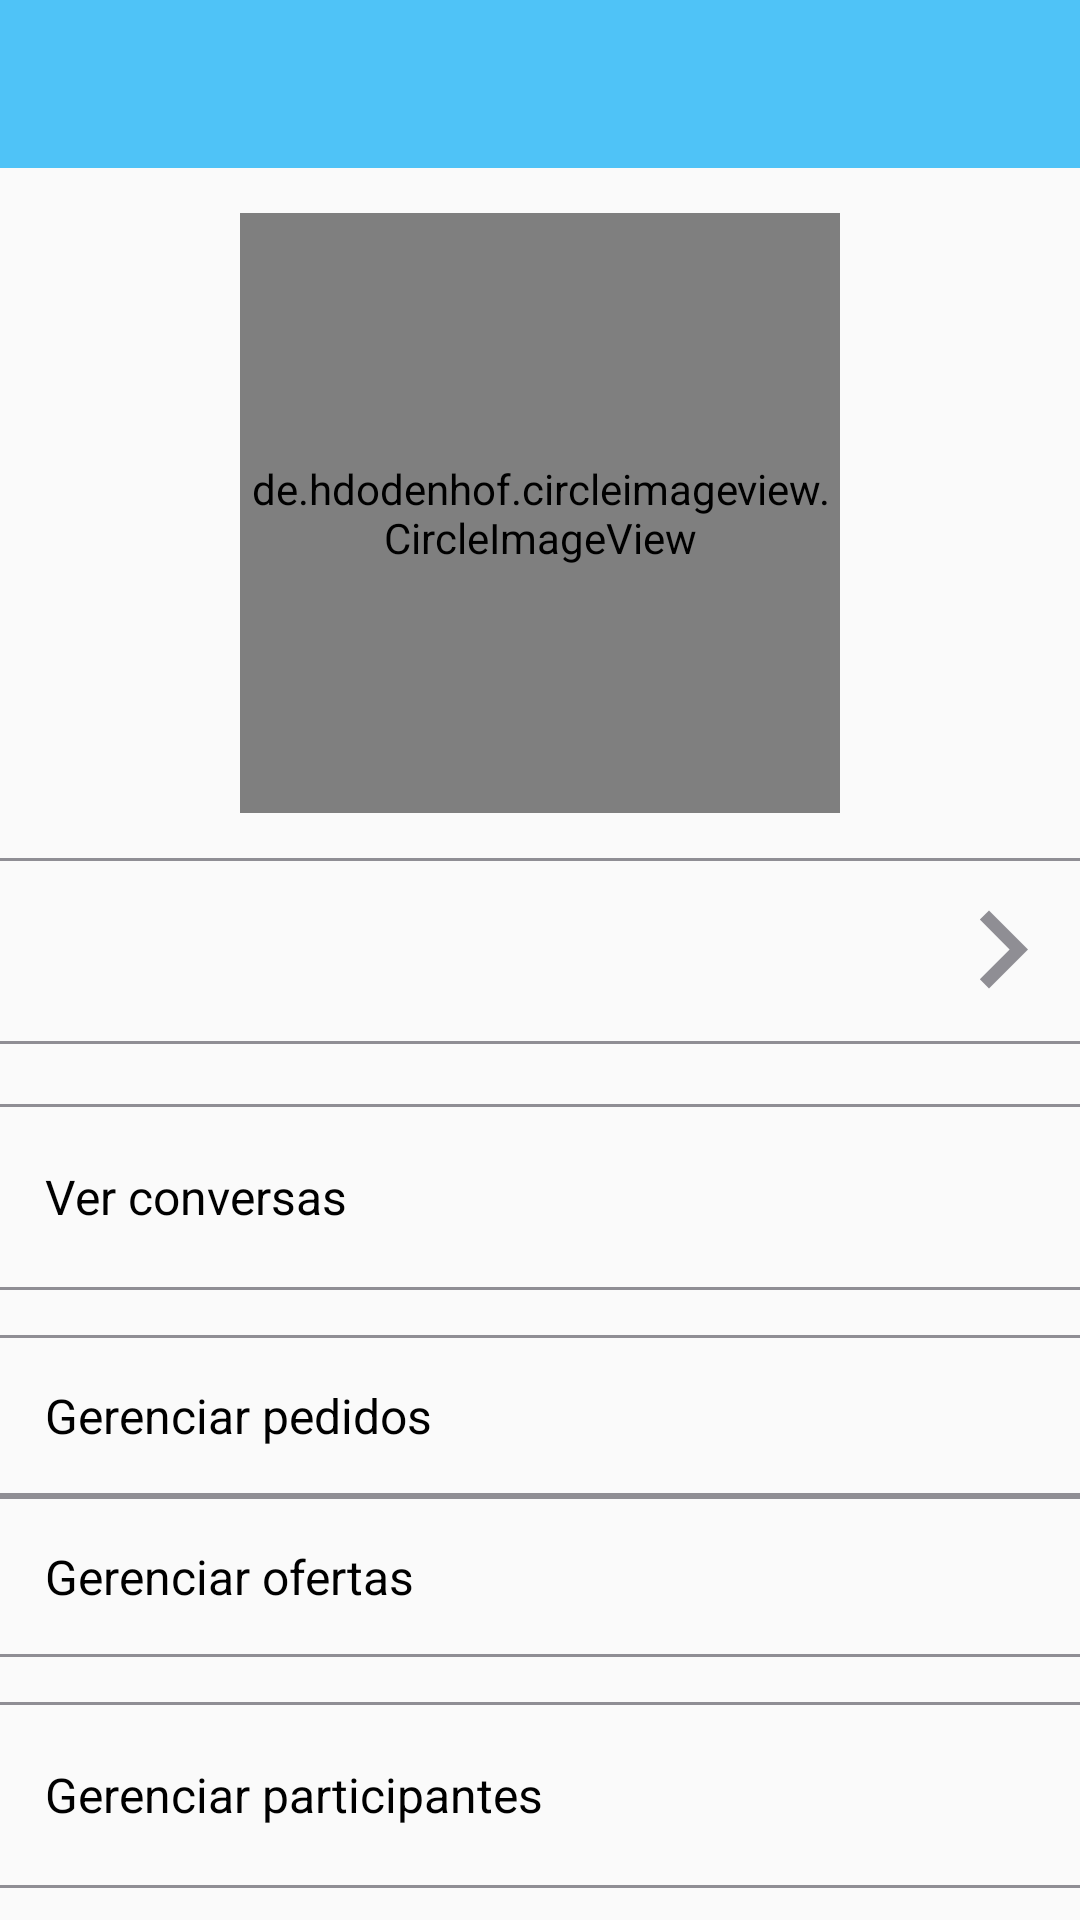

Named icons in this screenshot (1080px×1920px) and their bounding boxes, (x1, y1, x2, y2):
arrow right: (980, 911, 1028, 988)
